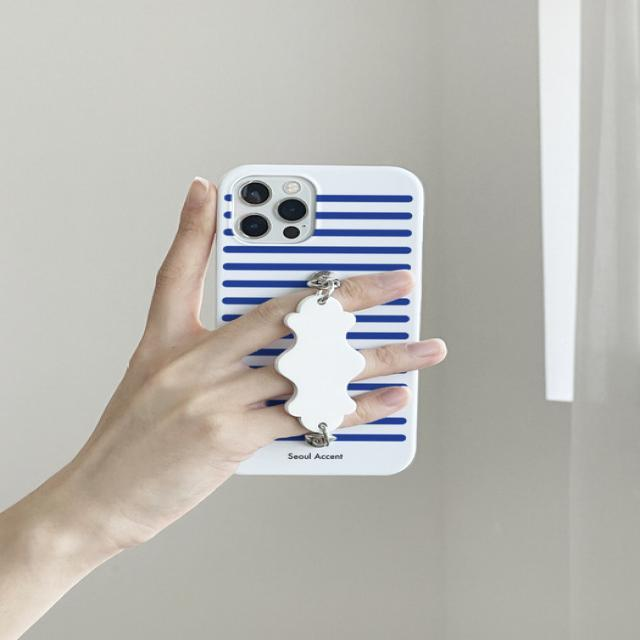phone: (218, 164, 424, 476)
